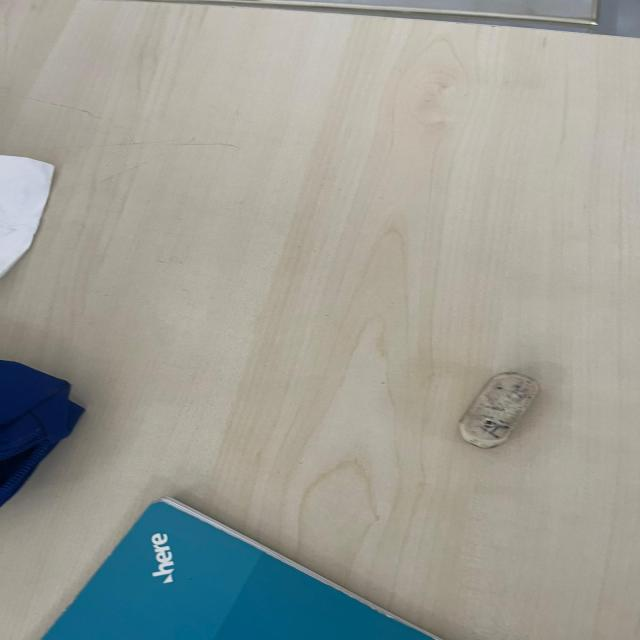eraser: (445, 366, 552, 469)
